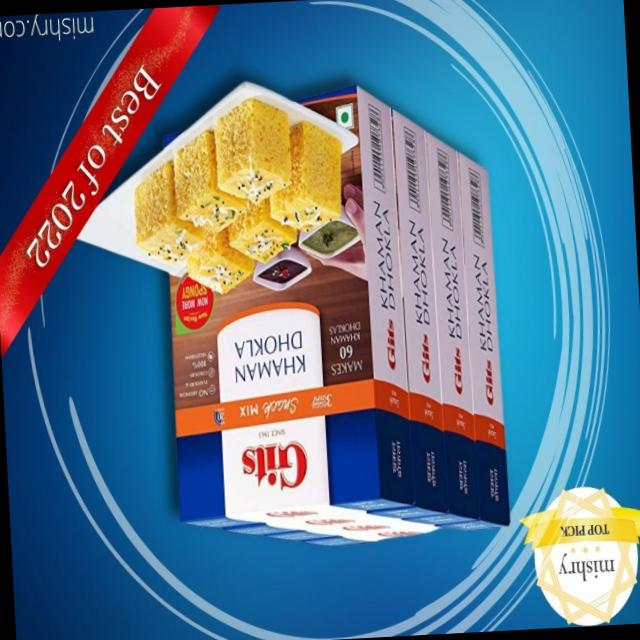dhokla: (125, 100, 346, 302)
